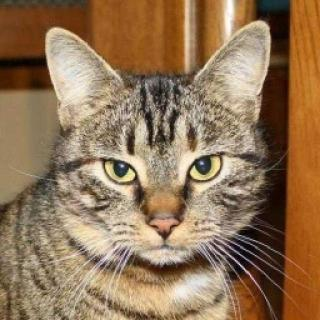cat: (43, 25, 282, 271)
nose: (141, 191, 186, 243)
